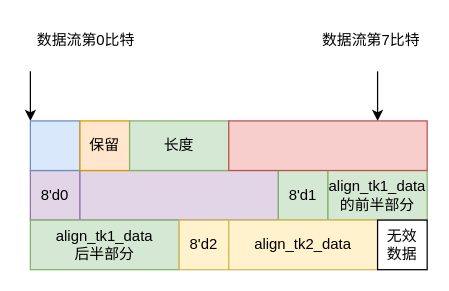
Some shapes in this 449 by 291 pixel diagram are drawn without their labels. Here are the shapes that lost their labels. From the top down, the box of each, then its label:
(29, 120, 80, 170): 'd128
(228, 120, 427, 170): 与上次提交的时钟差
(79, 169, 278, 220): 8位对齐后的tk0_data
